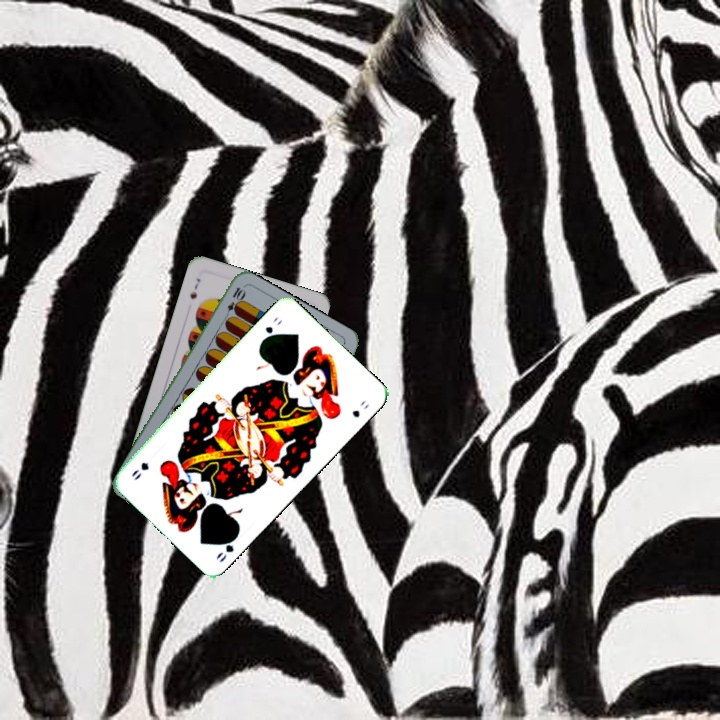E10: (220, 283, 247, 322)
GO: (212, 529, 242, 565), (258, 313, 285, 345)
S7: (186, 274, 203, 301)
